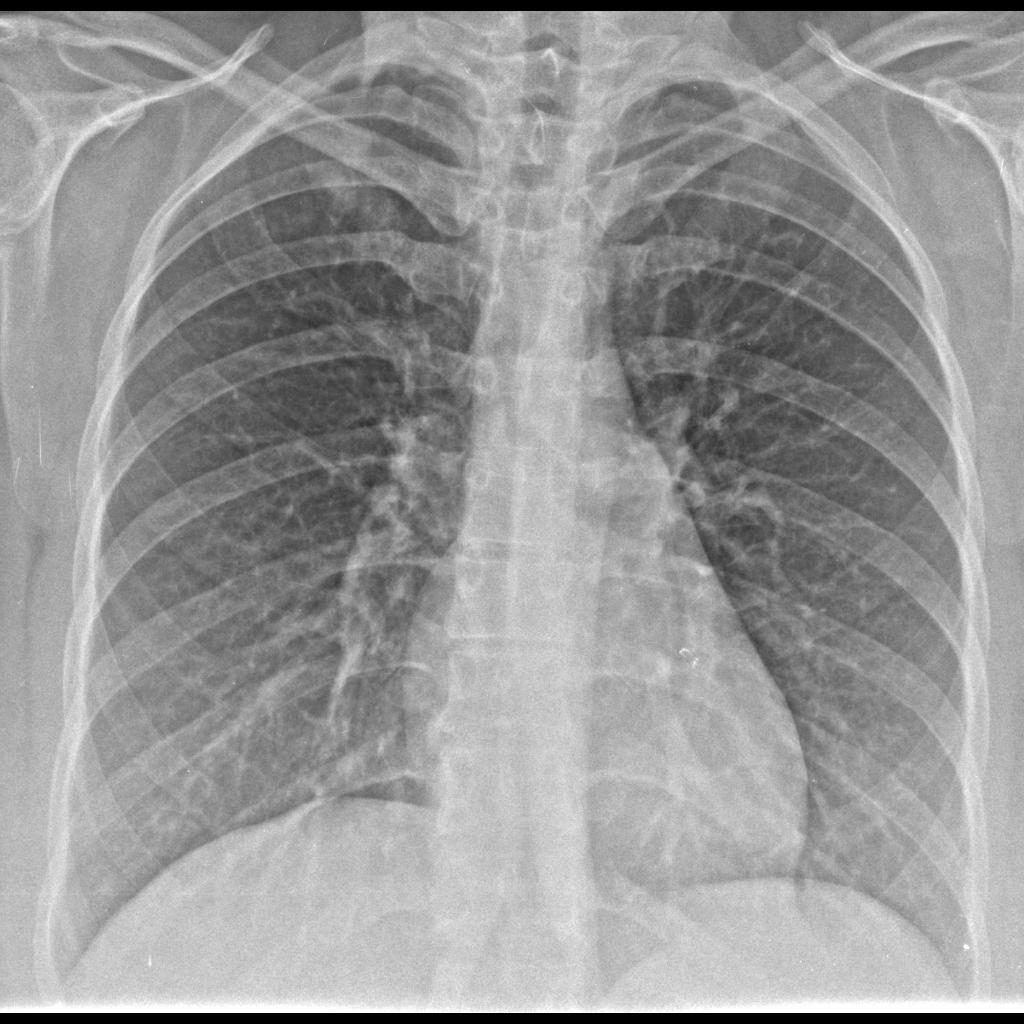Nodule: (303, 152, 367, 212)
